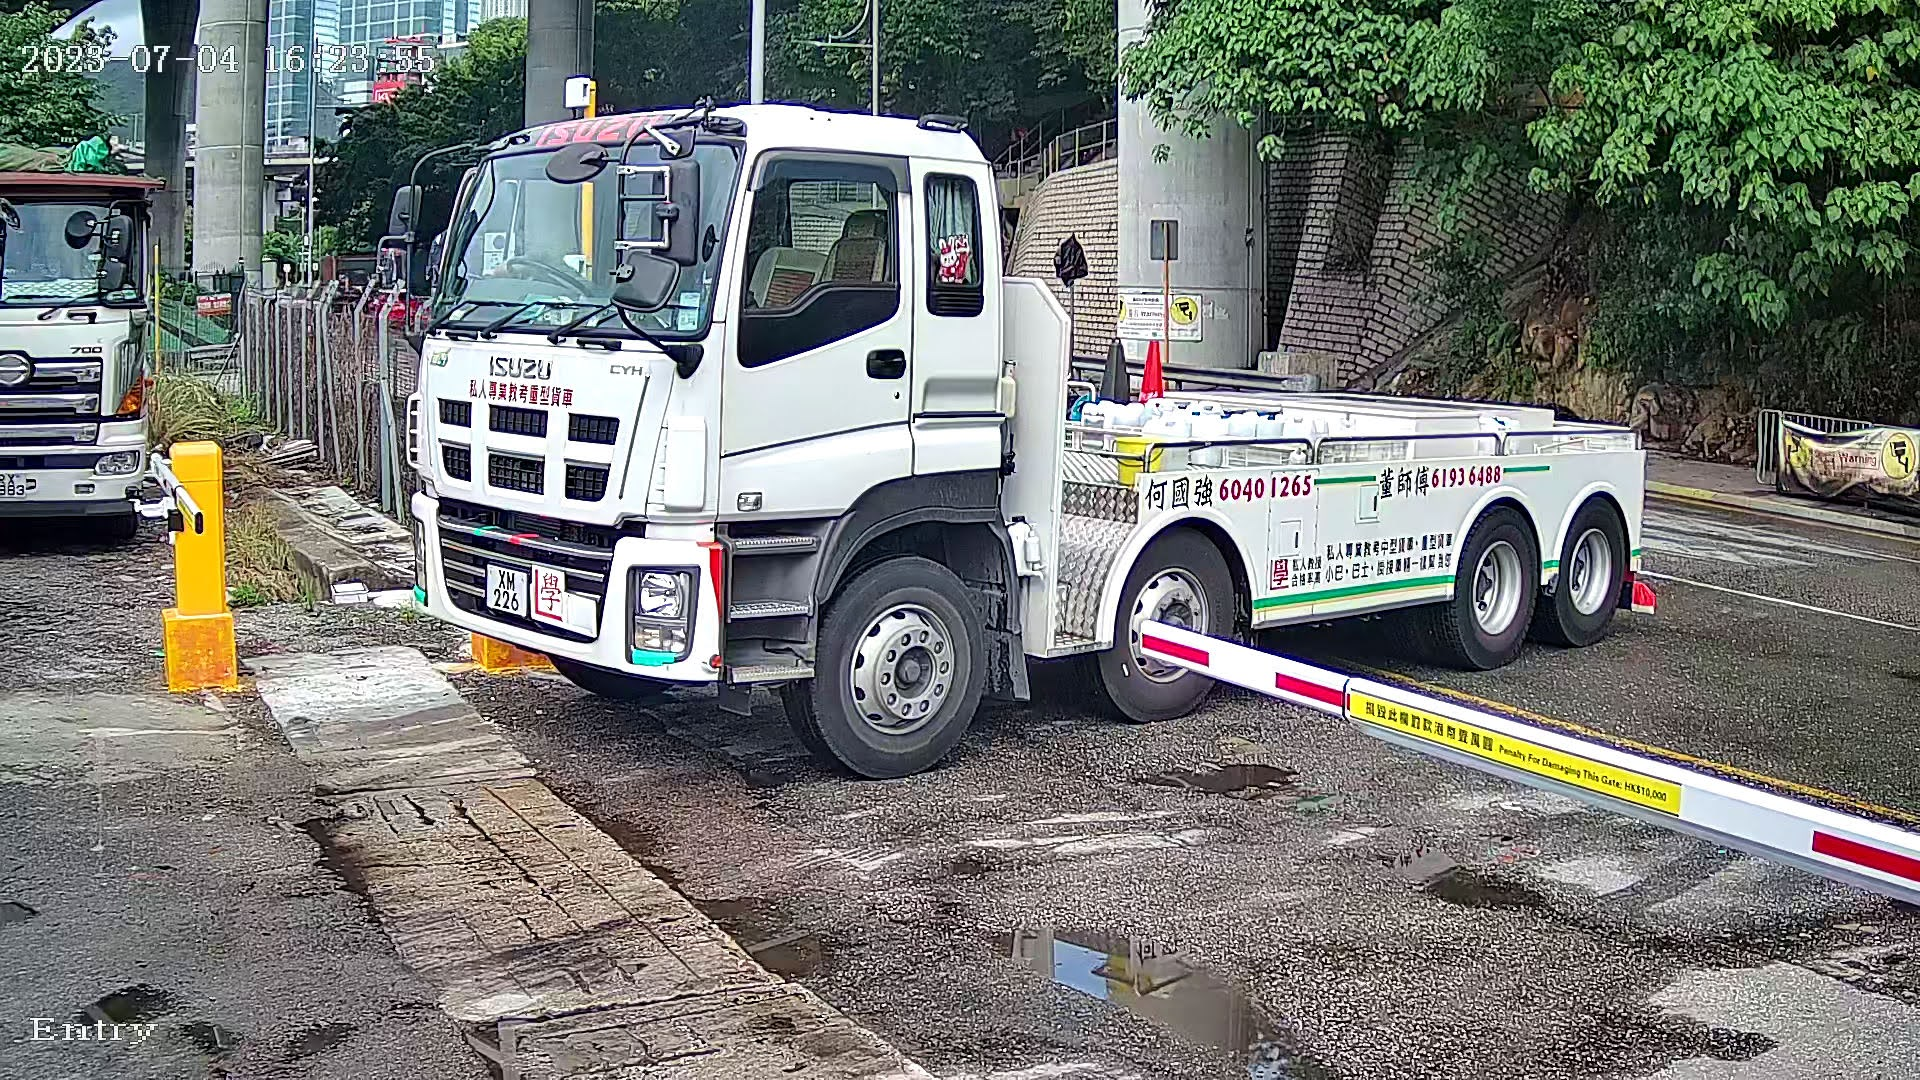truck_large: (388, 96, 1709, 791)
